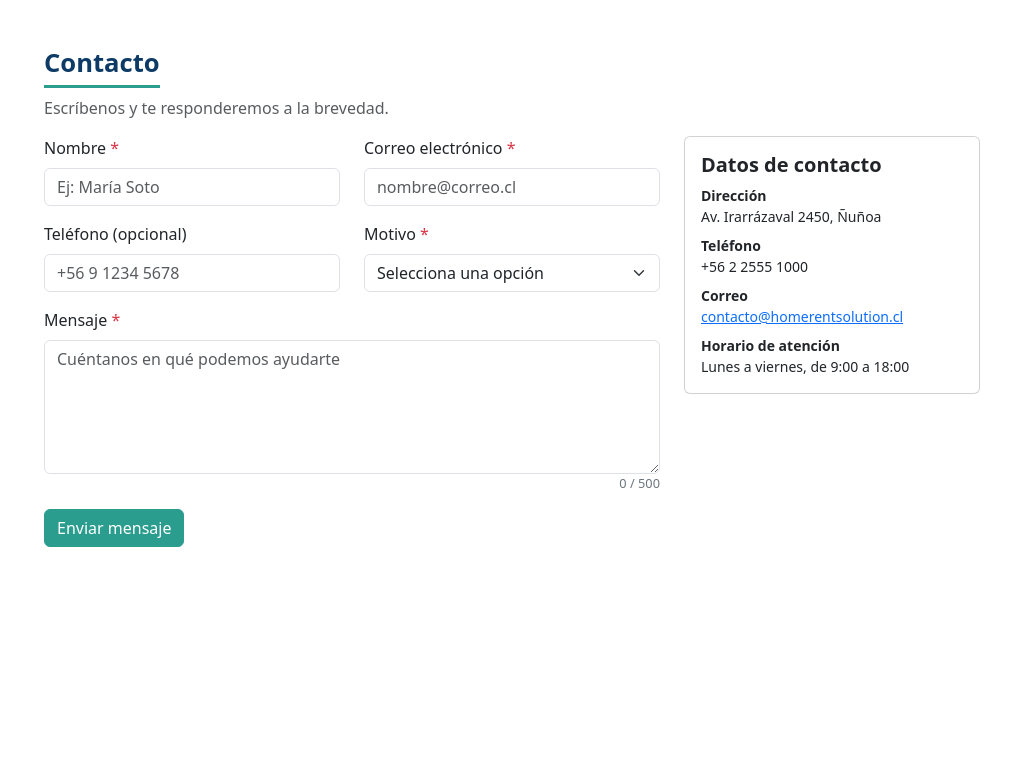
Scenario: Contacto › Con datos válidos guarda el mensaje, confirma y limpia el formulario
Type "María Soto" into the field labelled "Nombre *" at (192,187), box [44,168,340,206]
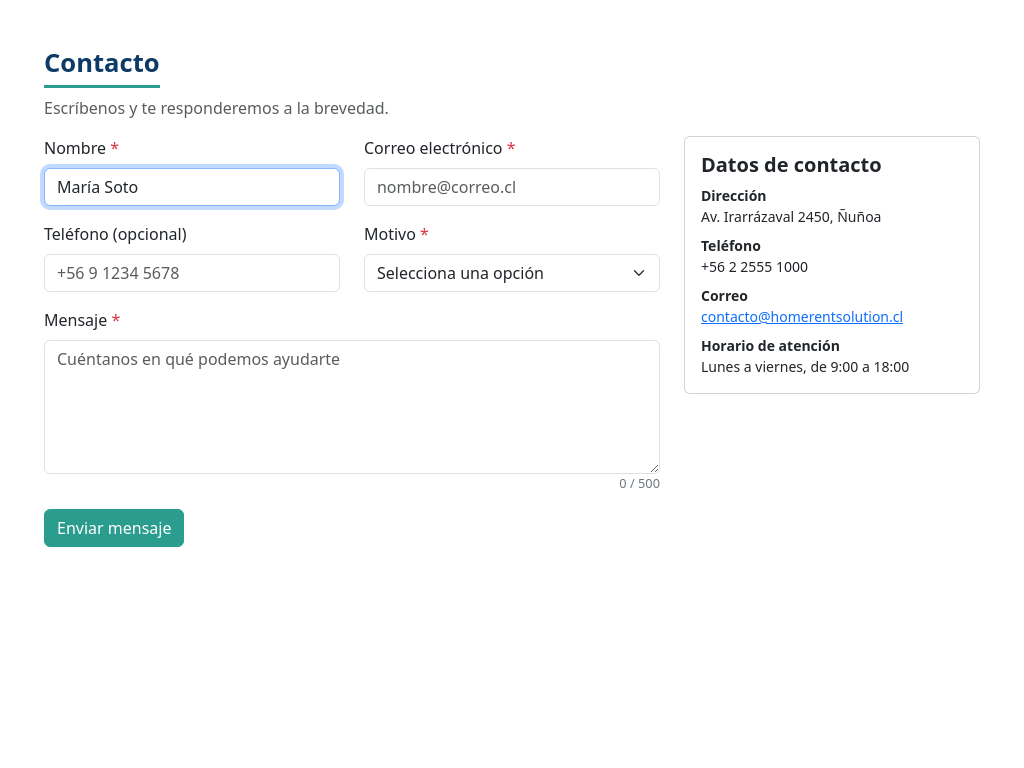
Type "maria@correo.cl" into the field labelled "Correo electrónico *" at (512,187), box [364,168,660,206]
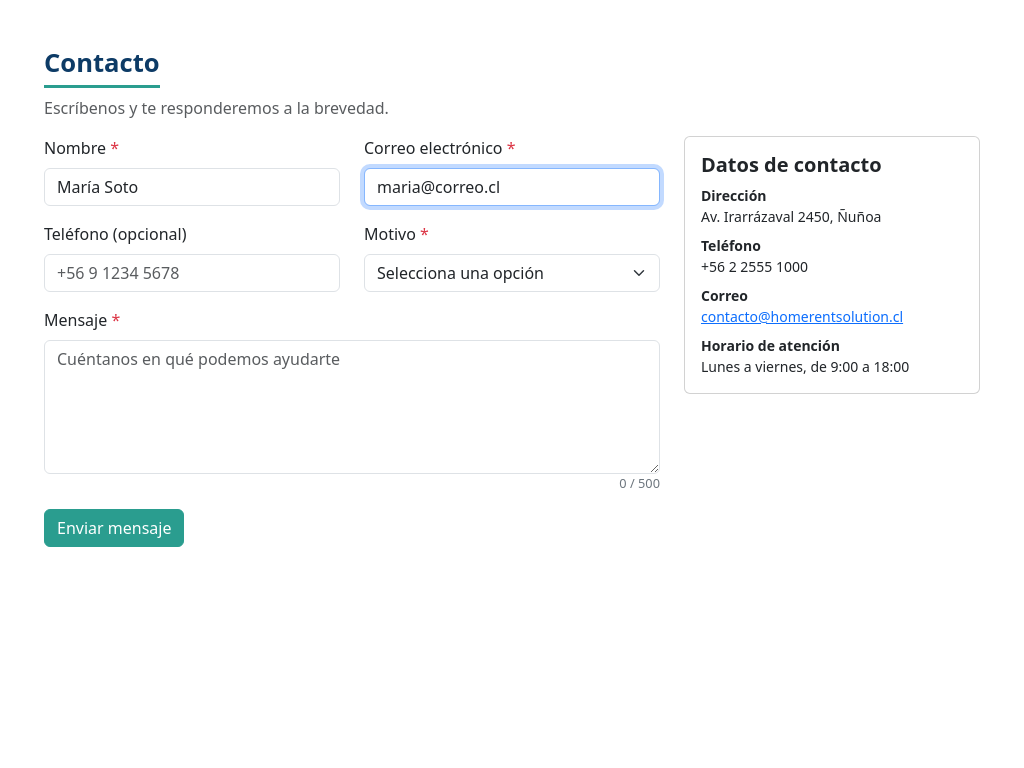
Select "Ayuda con una reserva" in the dropdown labelled "Motivo *" at (512,273), box [364,254,660,292]
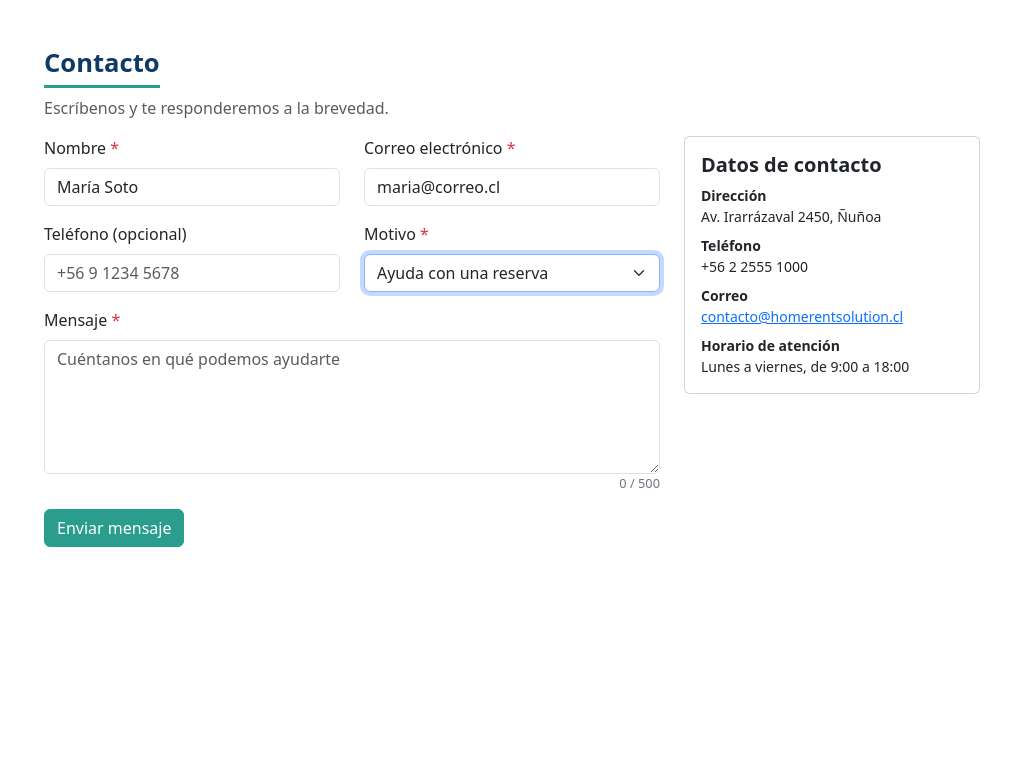
Type "Necesito ayuda con mi reserva" into the text box labelled "Mensaje *" at (352,407), box [44,340,660,474]
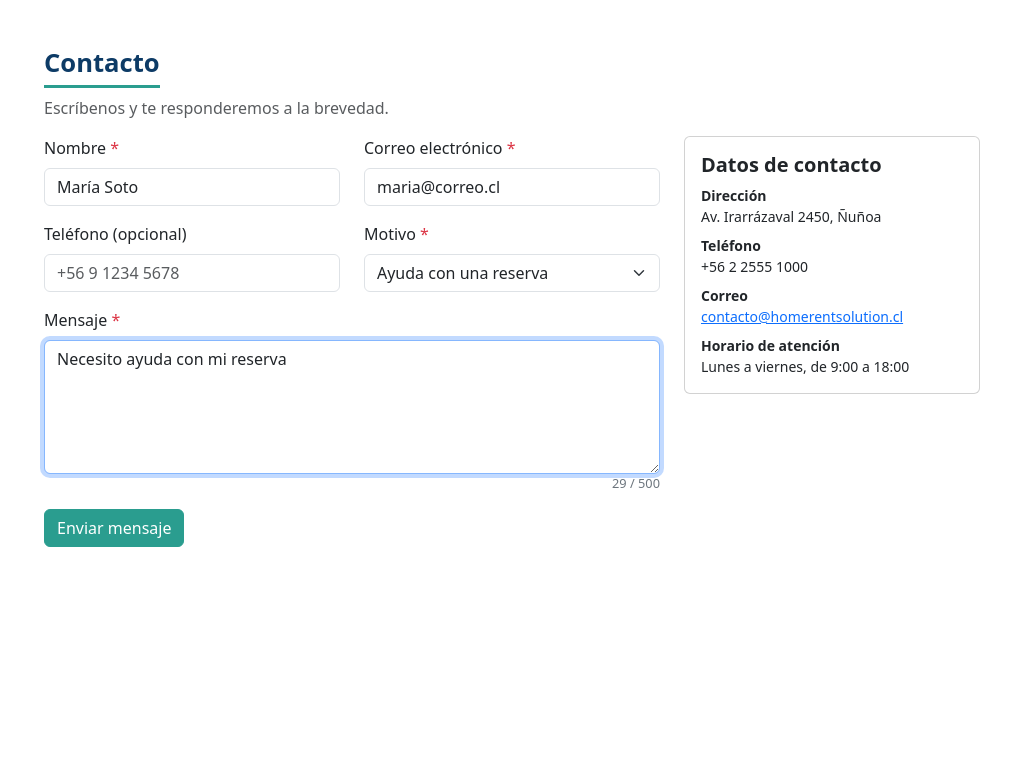
Click the button "Enviar mensaje" at (114,528), box [44,509,184,547]
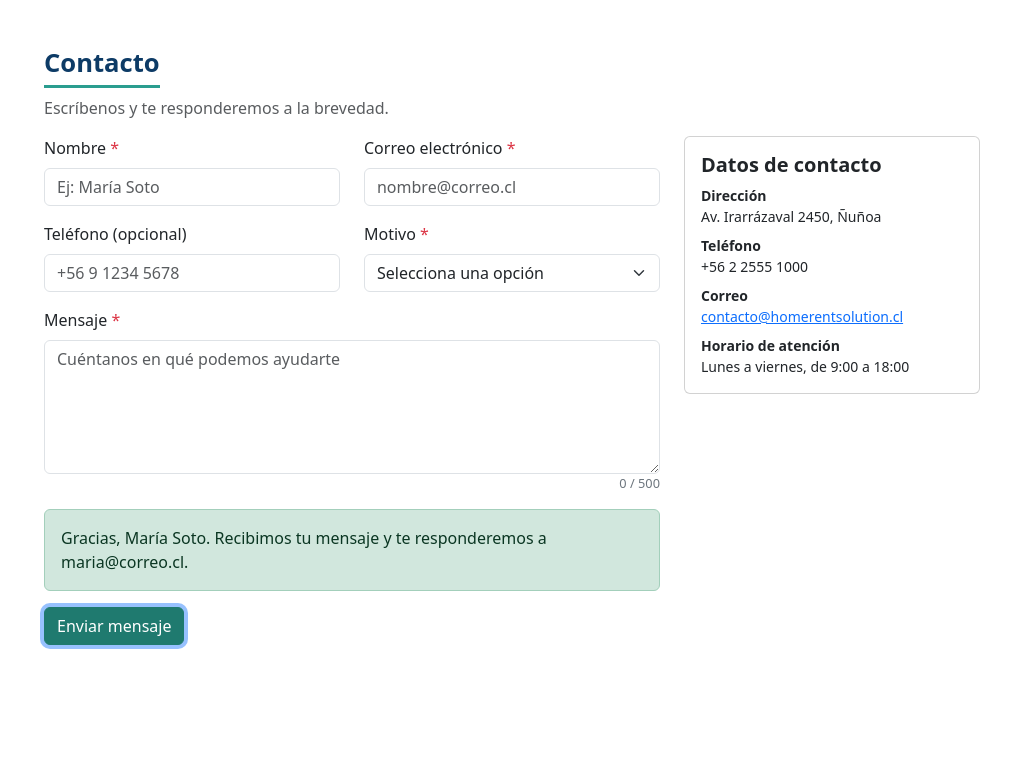
Expected: the message reads "Gracias, María Soto. Recibimos tu mensaje y te responderemos a maria@correo.cl.", [61,527,547,573]
Expected: the field labelled "Nombre *" is empty, [44,168,340,206]
Expected: the text "0 / 500" is shown, [619,474,660,492]
